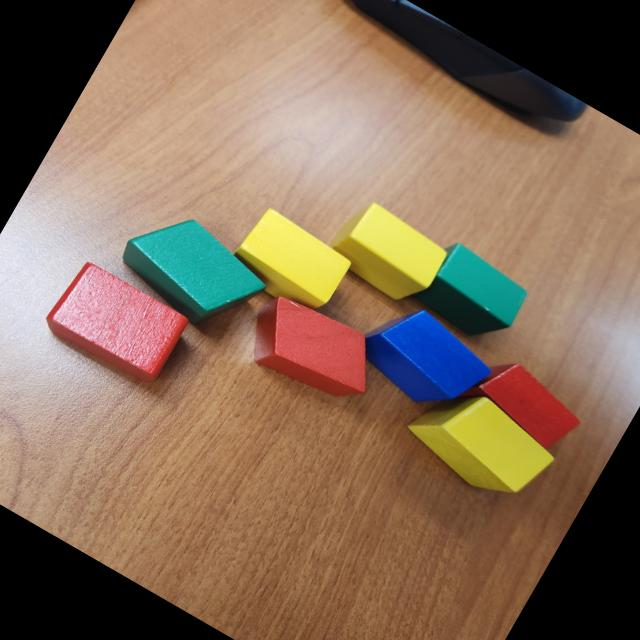blue: (342, 288, 504, 430)
green: (107, 195, 279, 348), (406, 234, 536, 352)
red: (237, 283, 391, 419), (42, 255, 194, 390), (455, 345, 591, 458)
yellow: (396, 371, 564, 516), (313, 188, 451, 312), (224, 203, 356, 324)
